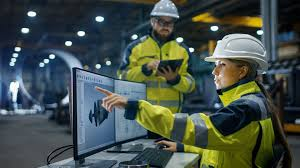Person_wearing_helmet: (203, 31, 271, 69), (145, 0, 180, 25)
